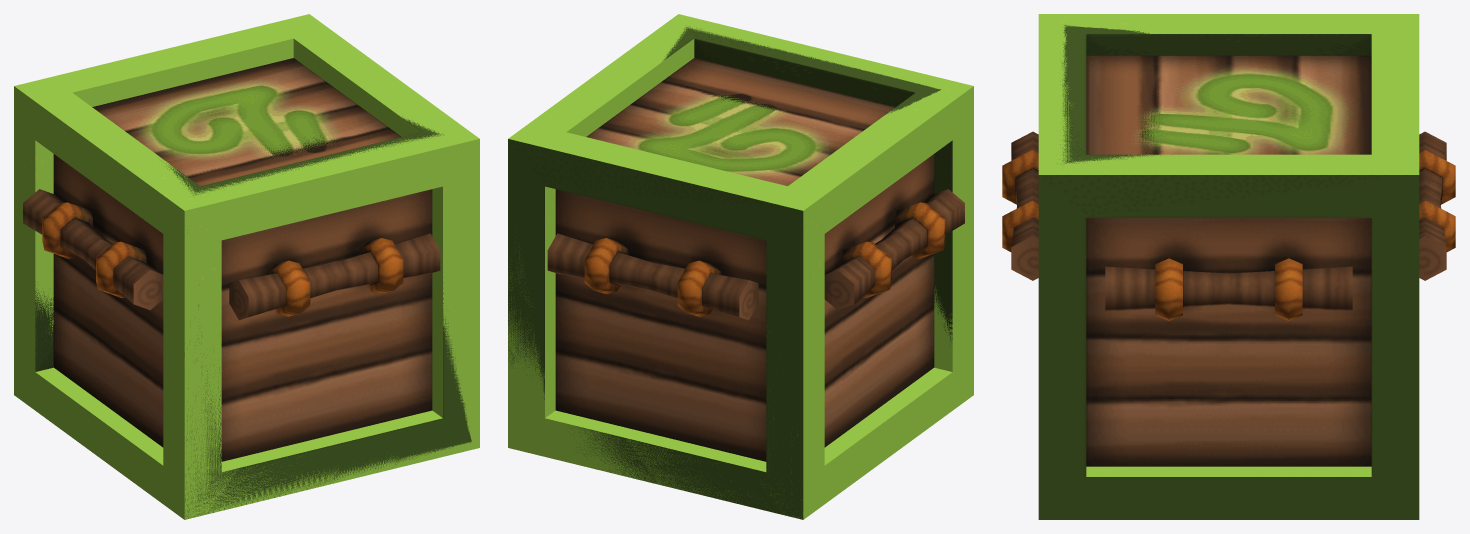
File: 8-CaisseVerte.FBX
3 views of the same model, side by side, from view 1: azimuth 30°, elevation 25°; view 2: azimuth 150°, elevation 25°; view 3: azimuth 270°, elevation 25° (orthographic). The views are drawn at different scales.
Parts seen in each view (by area): view 1: 8-CaisseVerteOn, 8-CaisseVerteOff; view 2: 8-CaisseVerteOn, 8-CaisseVerteOff; view 3: 8-CaisseVerteOff, 8-CaisseVerteOn.
Part boxes in pixels (left/top/right/bottom): 8-CaisseVerteOn: left=14, top=14, right=479, bottom=519; 8-CaisseVerteOff: left=35, top=116, right=471, bottom=519; 8-CaisseVerteOn: left=508, top=14, right=973, bottom=519; 8-CaisseVerteOff: left=508, top=26, right=952, bottom=519; 8-CaisseVerteOff: left=1038, top=25, right=1419, bottom=519; 8-CaisseVerteOn: left=1002, top=14, right=1455, bottom=476.
Size of the model in its own units: 2.03 by 1.7 by 2.03.
